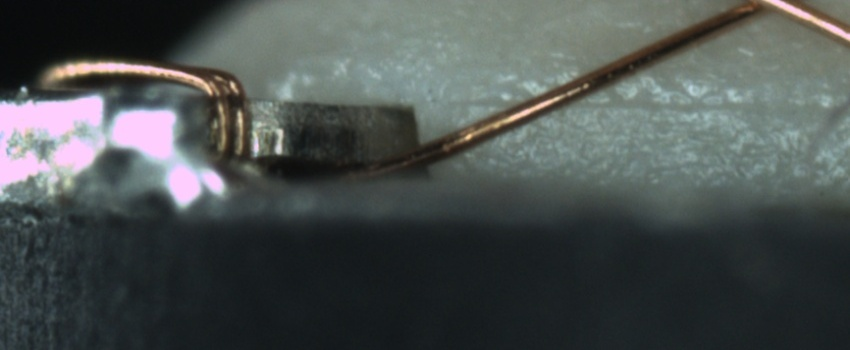CL: (718, 0, 809, 22)
DL: (477, 74, 850, 139)
TE: (37, 52, 264, 182)
